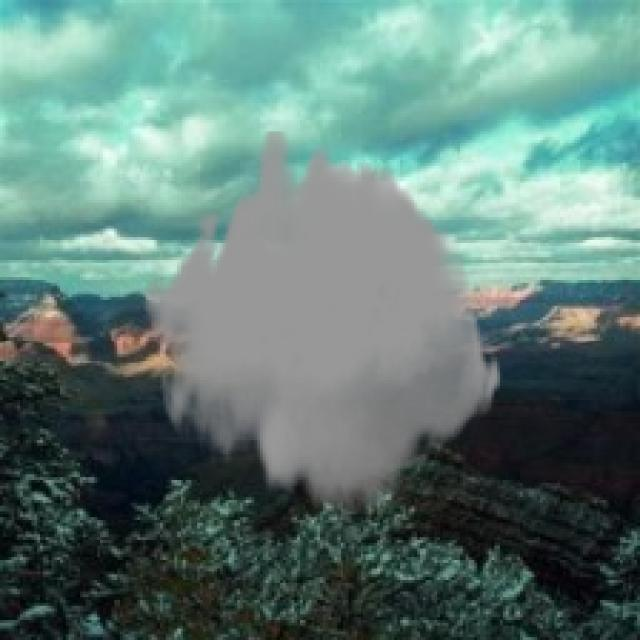smoke: (143, 132, 503, 514)
